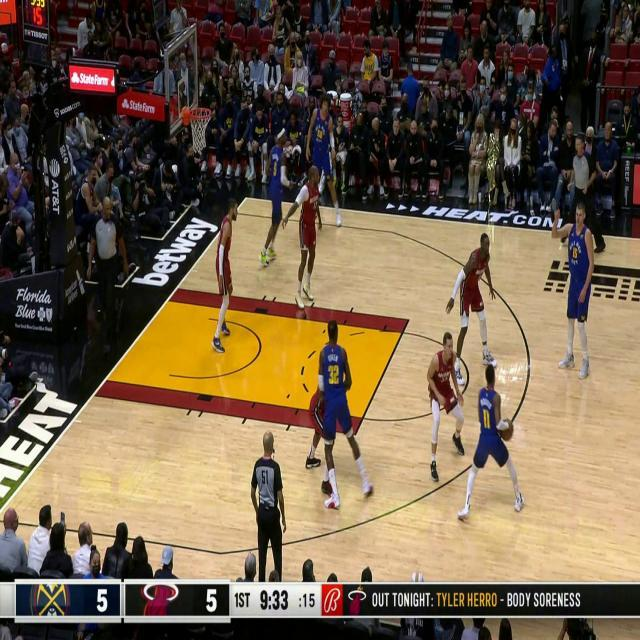rim: (501, 419, 513, 441)
